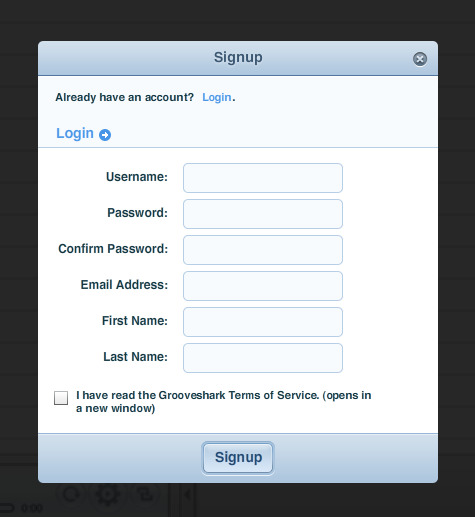_form_: (30, 76, 446, 493)
button: (200, 440, 274, 476)
checkbox: (51, 387, 72, 408)
checkbox_with_label: (46, 384, 373, 413)
field: (180, 269, 344, 302), (180, 305, 344, 338), (182, 233, 345, 266), (180, 161, 346, 193), (180, 197, 346, 229), (180, 342, 345, 374)
field_with_label: (59, 230, 348, 267), (100, 302, 347, 340), (80, 268, 347, 303), (104, 159, 348, 195), (106, 195, 348, 231), (102, 342, 348, 376)
